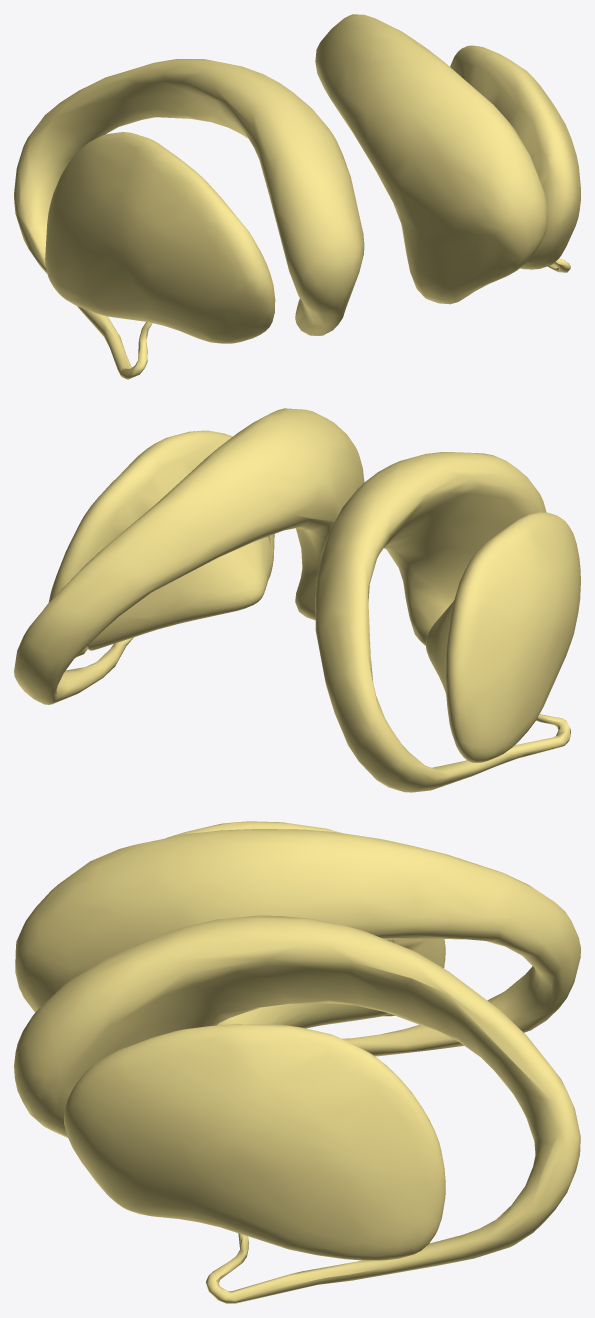
The model's file is nucleos-da-base.glb.
3 renders of one model, top to bottom at view 1: azimuth 30°, elevation 25°; view 2: azimuth 150°, elevation 25°; view 3: azimuth 270°, elevation 25°, orthographic. The views are drawn at different scales.
Parts seen in each view (by area): view 1: nucleos-da-base; view 2: nucleos-da-base; view 3: nucleos-da-base.
Boxes of the visible parts, <box> form: nucleos-da-base: <box>14,14,580,379</box>; nucleos-da-base: <box>14,408,580,792</box>; nucleos-da-base: <box>14,821,580,1303</box>.
Size of the model in its own units: 0.0701 by 0.0371 by 0.0636.
